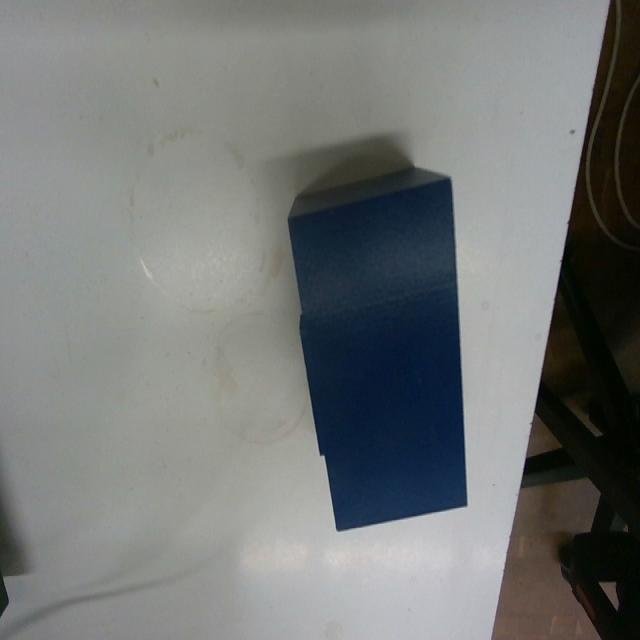Blue Cuboid: (284, 161, 470, 532)
